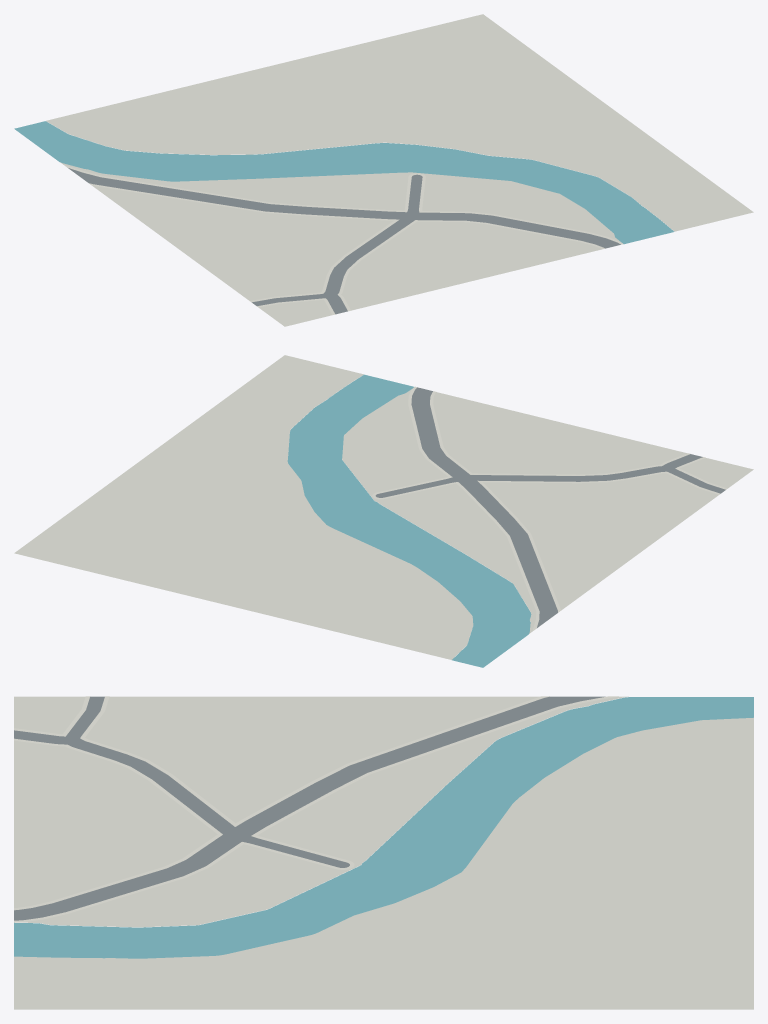
3 renders of one model, top to bottom at view 1: azimuth 30°, elevation 25°; view 2: azimuth 150°, elevation 25°; view 3: azimuth 270°, elevation 25°, orthographic. The views are drawn at different scales.
Visible parts, largest first — view 1: city; view 2: city; view 3: city.
Boxes of the visible parts, bbox=[...] form: city: bbox=[14, 14, 753, 326]; city: bbox=[14, 355, 753, 667]; city: bbox=[14, 696, 753, 1009].
Bounding box in the file's own units: 500 × 0.4 × 500.
